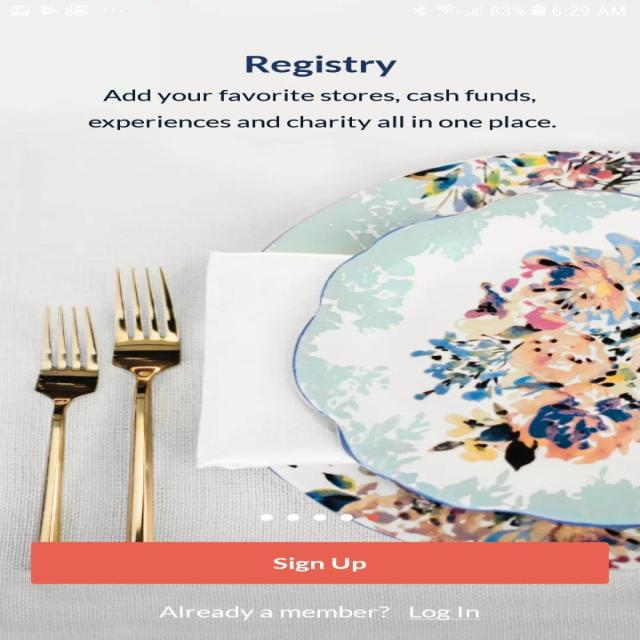BackgroundImage: (0, 17, 639, 639)
Text: (88, 115, 556, 130), (102, 89, 535, 104), (158, 605, 390, 620), (245, 55, 398, 77), (407, 605, 480, 620)
TextButton: (31, 541, 609, 584)
